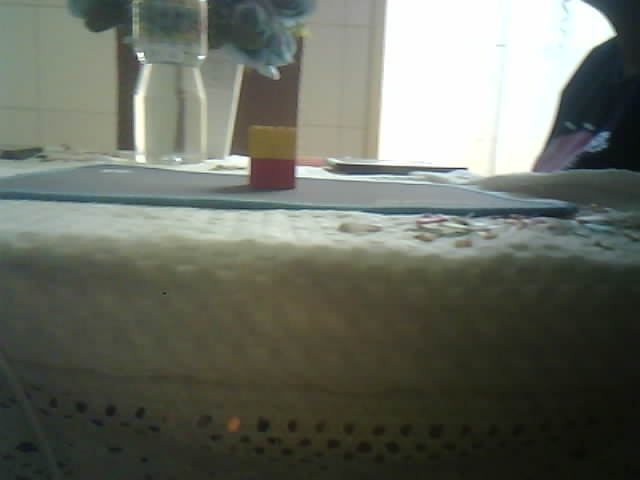lego: (246, 125, 297, 190)
